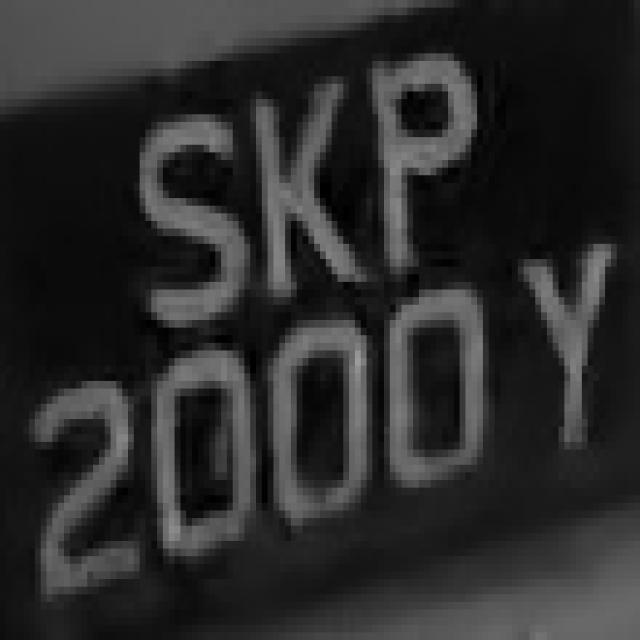0: (372, 266, 494, 510), (256, 305, 378, 541), (151, 328, 256, 586)
2: (12, 343, 157, 609)
K: (233, 91, 349, 312)
P: (355, 23, 477, 244)
S: (123, 99, 245, 335)
Y: (506, 206, 611, 450)
